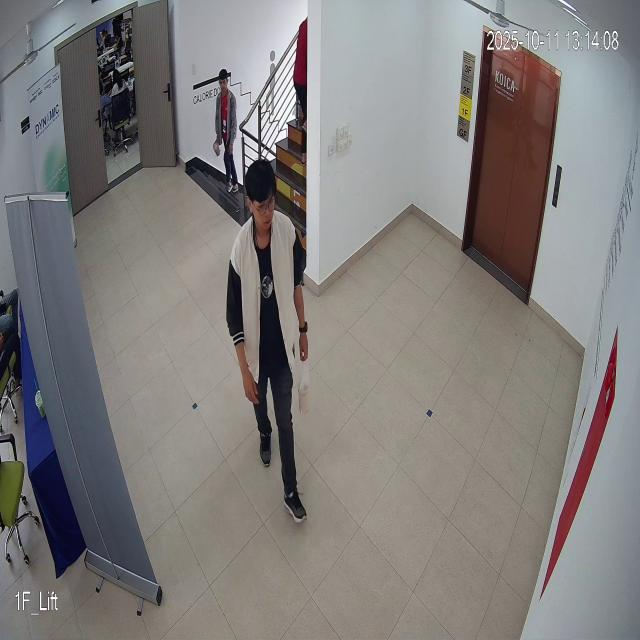face: (244, 158, 281, 244)
